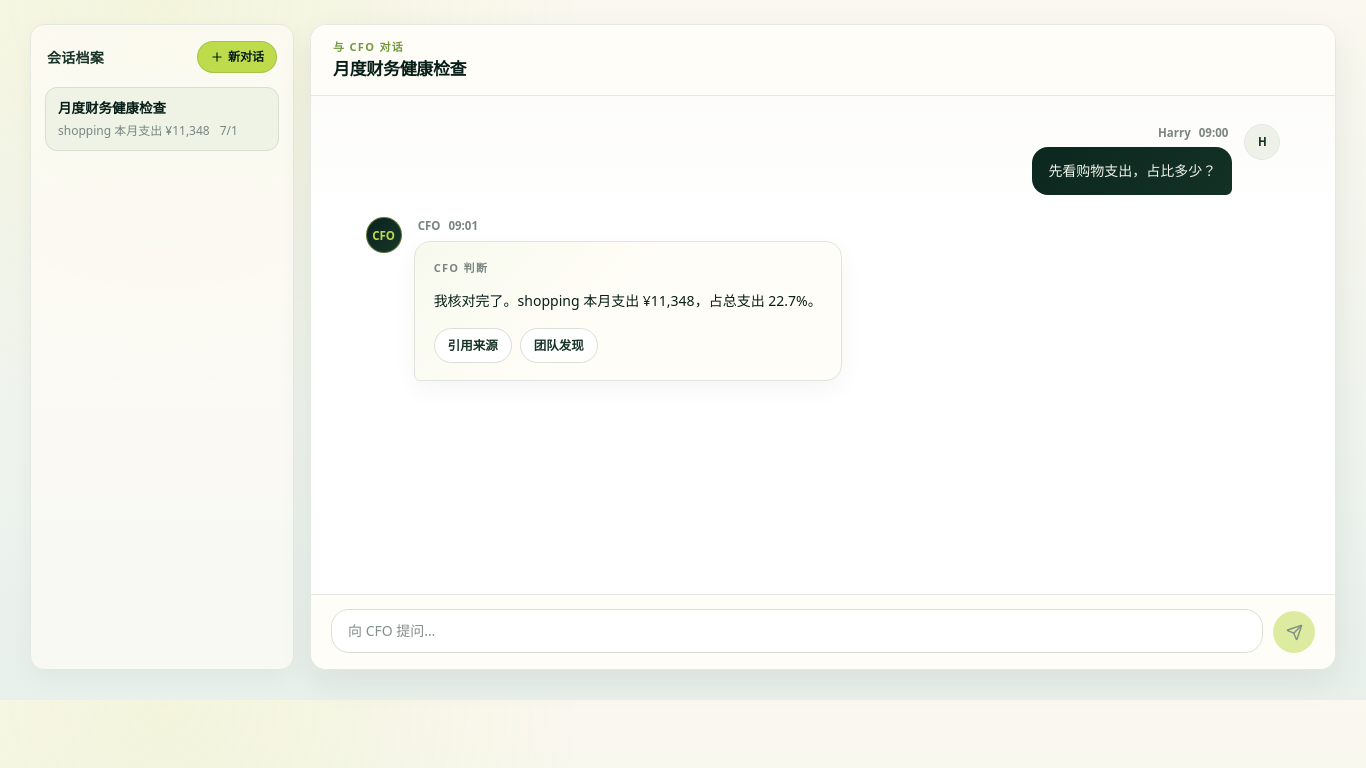
Test: MyOfficePage › opens the message-specific drawer from the citations chip and closes it
The width and height of the screenshot is (1366, 768).
Click the button "引用来源" at coordinates (473, 345), box [434, 328, 512, 363]
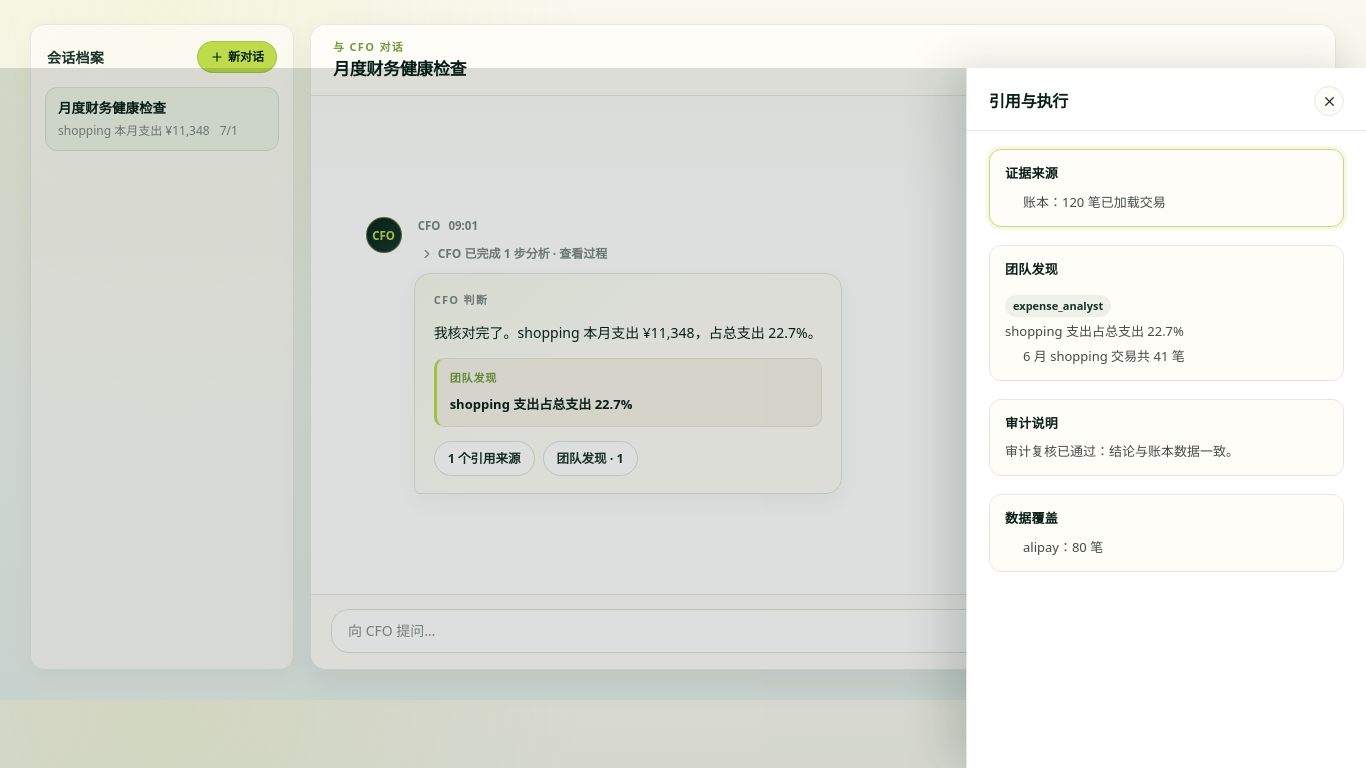
Now the dialog shows "引用与执行", box [989, 90, 1068, 112]
Now the list item "账本：120 笔已加载交易" is shown, box [1023, 193, 1166, 211]
Now the heading "证据来源" is shown, box [1005, 164, 1058, 182]
Click the button titled "关闭" at coordinates (1329, 101), box [1314, 86, 1344, 116]
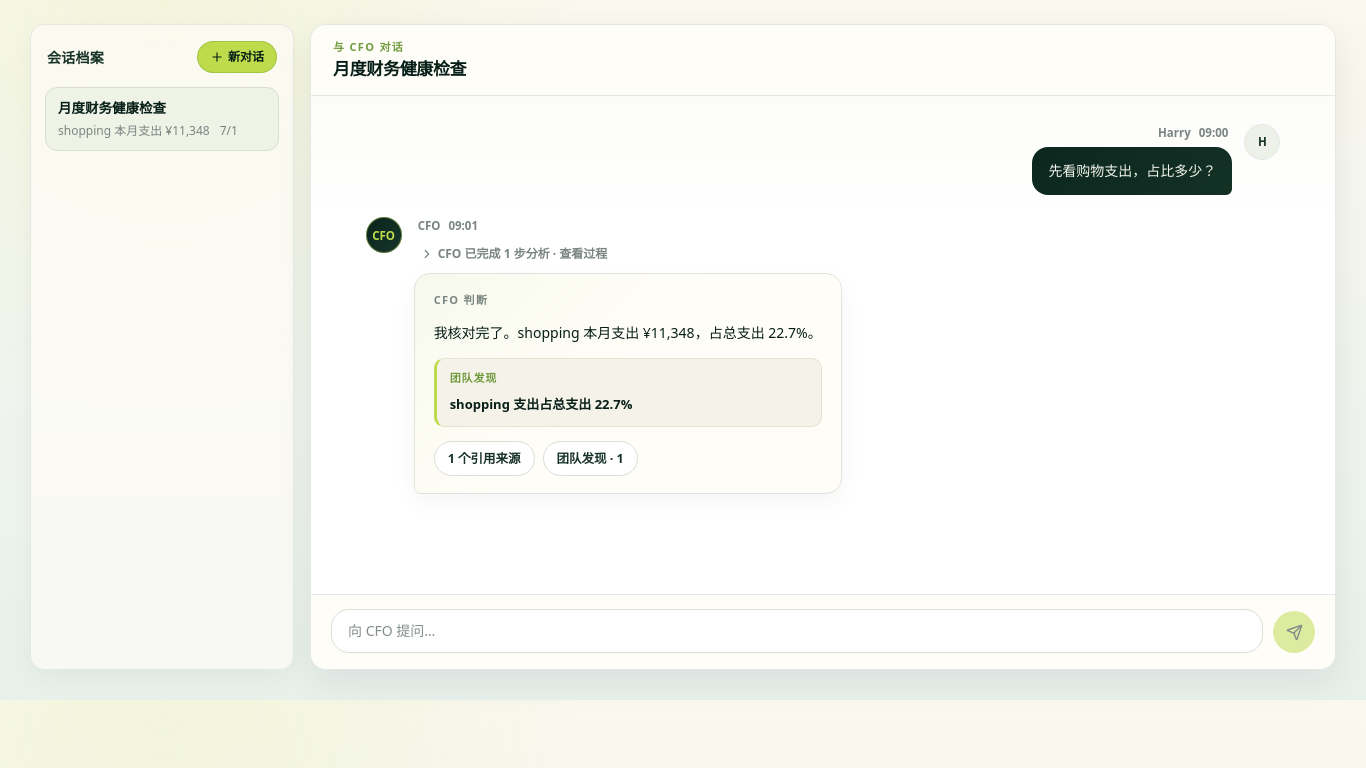
Now the dialog is gone
